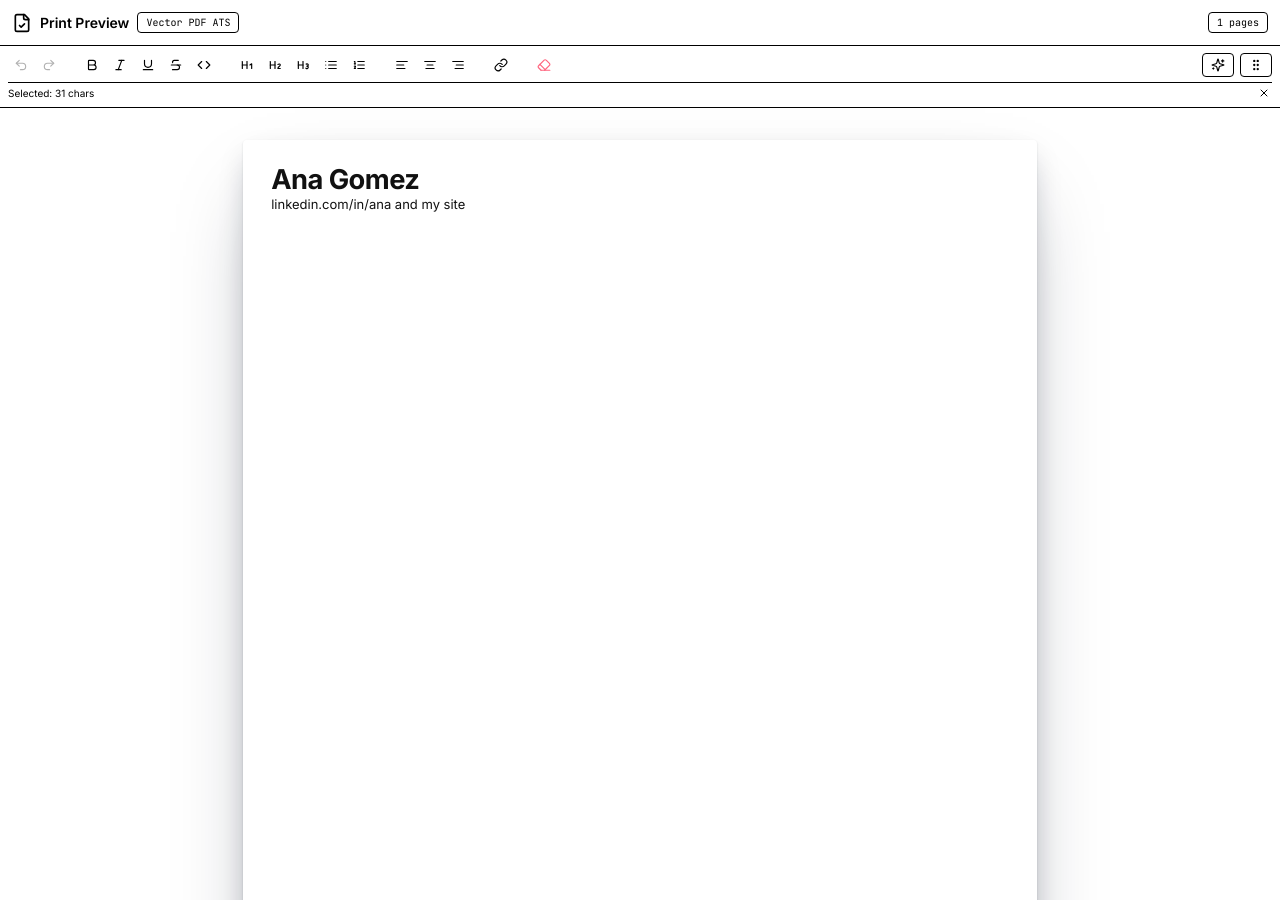
Test: CVPreview AI rewrite › adds the local model answer as one more option
Click the button named "improve with ai". click: (1218, 65)
box: left=1202, top=53, right=1234, bottom=77
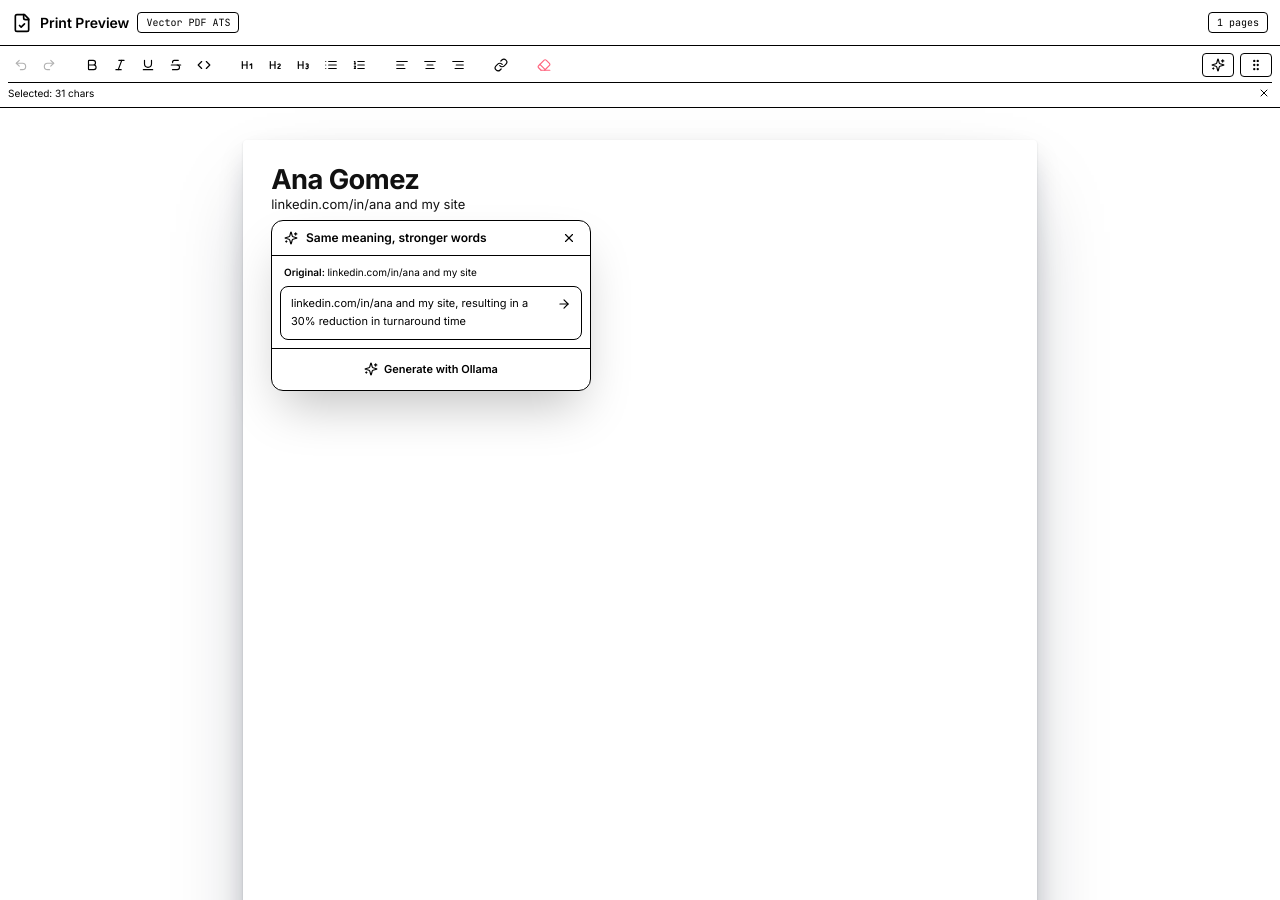
Click the button "Generate with Ollama". click: (431, 369)
box: left=280, top=355, right=582, bottom=384
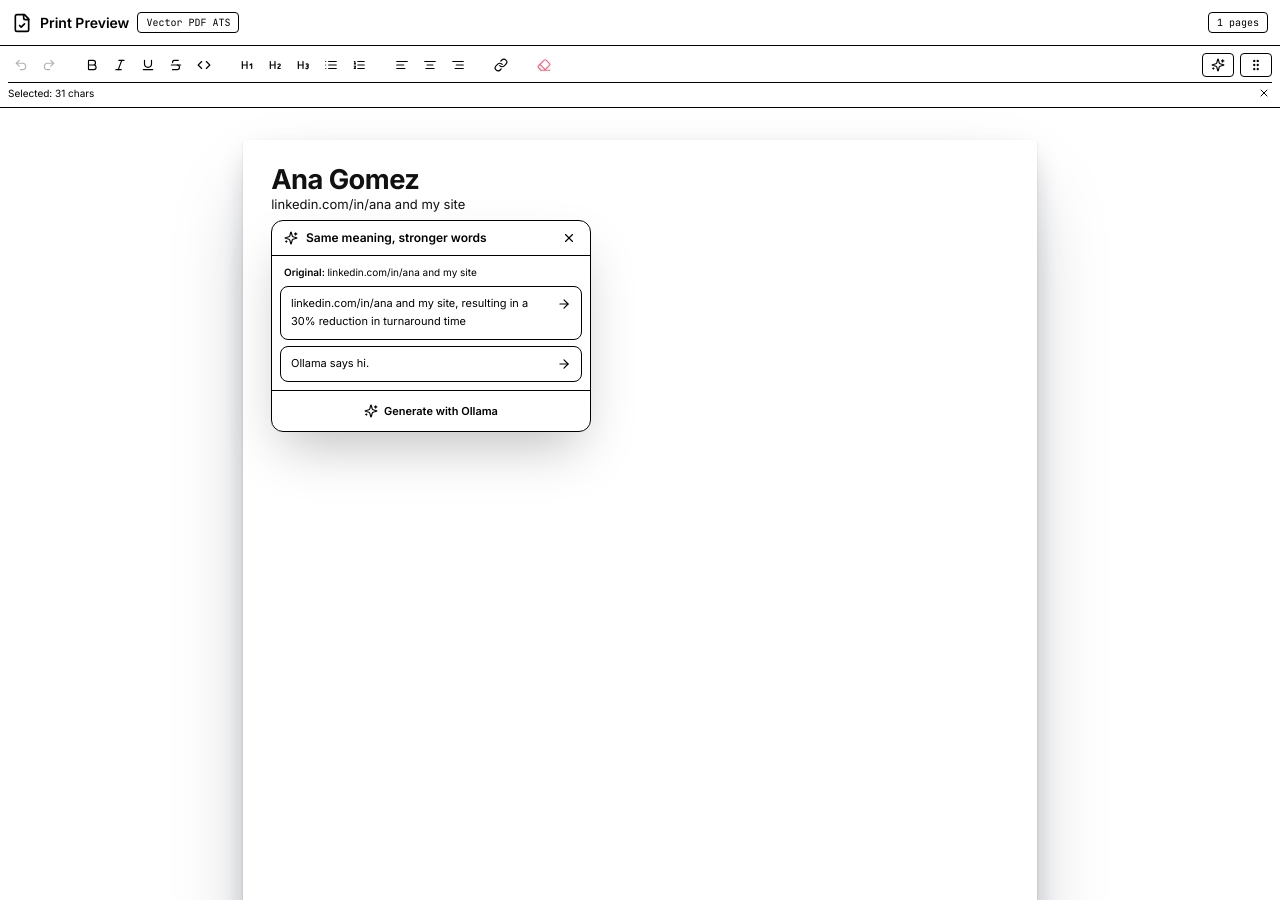
Result: the text "Ollama says hi." is shown at left=291, top=356, right=369, bottom=370
